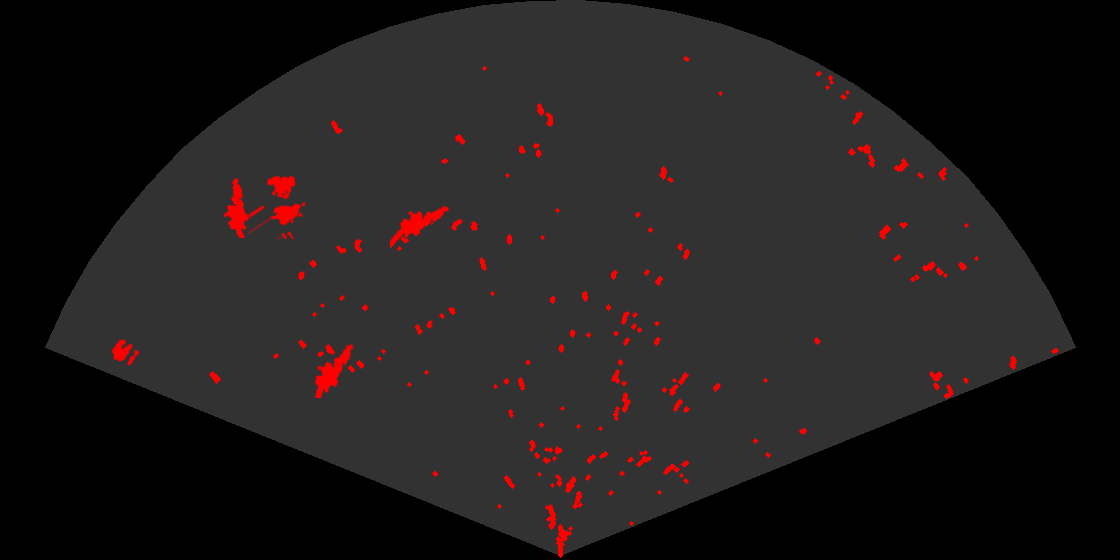ball: (110, 338, 141, 367)
cage: (248, 174, 308, 239)
frogman: (390, 204, 451, 250), (313, 342, 355, 398), (222, 176, 251, 238)
